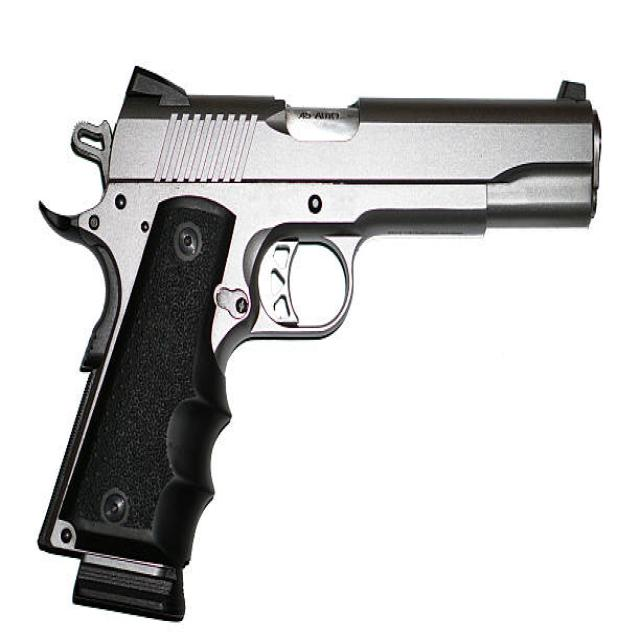pistol: (30, 65, 609, 625)
